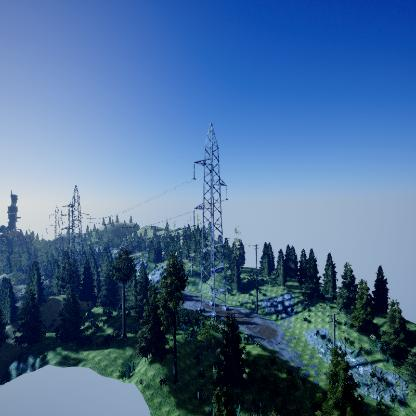tower: (191, 120, 230, 321), (60, 185, 93, 247)
